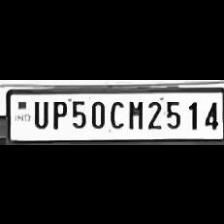0: (87, 96, 105, 128)
1: (182, 97, 200, 129)
2: (144, 97, 162, 129)
4: (198, 97, 220, 129)
5: (67, 96, 87, 128), (162, 97, 182, 129)
C: (106, 97, 124, 129)
M: (124, 97, 144, 129)
P: (48, 97, 68, 129)
U: (28, 97, 48, 129)
